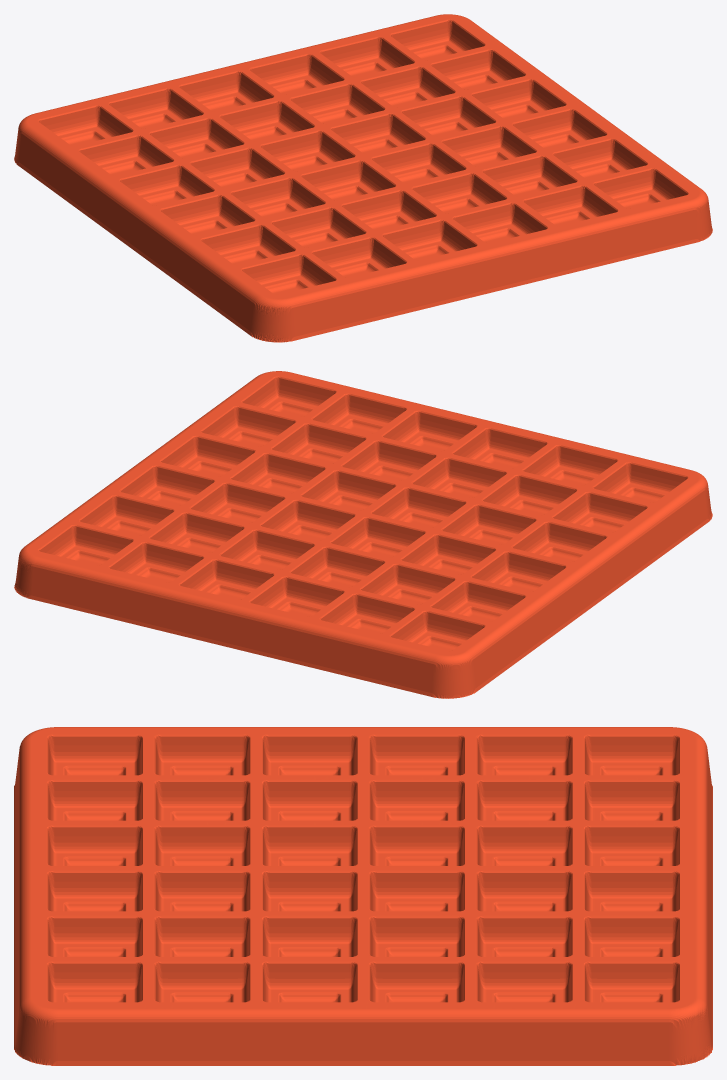
The model's file is mold.glb.
The picture shows the model from 3 angles, top to bottom: view 1: azimuth 30°, elevation 25°; view 2: azimuth 150°, elevation 25°; view 3: azimuth 270°, elevation 25°; orthographic projection. The views are drawn at different scales.
Parts seen in each view (by area): view 1: geometry_0; view 2: geometry_0; view 3: geometry_0.
Part boxes in pixels (x1,y1,x2,y2): geometry_0: [14, 14, 712, 342]; geometry_0: [14, 371, 712, 698]; geometry_0: [14, 727, 712, 1065].
Bounding box in the file's own units: 0.1447 × 0.0114 × 0.1447.
